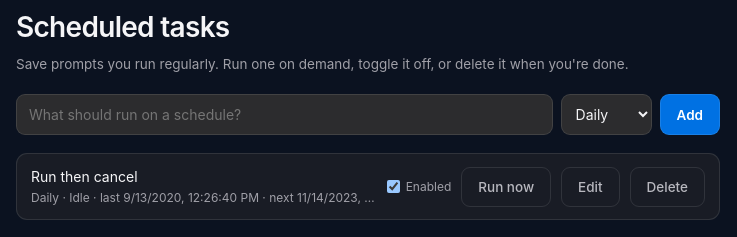
Test: ScheduledView › treats the run rejection after a successful cancel as expected
Expected: the text "Run then cancel" is shown, left=31, top=168, right=138, bottom=185
Click the button "Run now" at (506, 187), box left=461, top=167, right=551, bottom=207
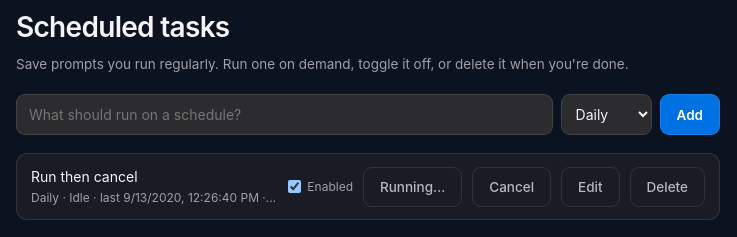
Click the button with aria-label "cancel run" at (512, 187), box left=472, top=167, right=551, bottom=207
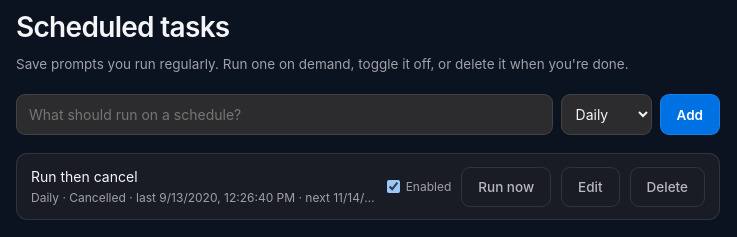
Now the text "Cancelled" is shown, box left=69, top=190, right=126, bottom=205
